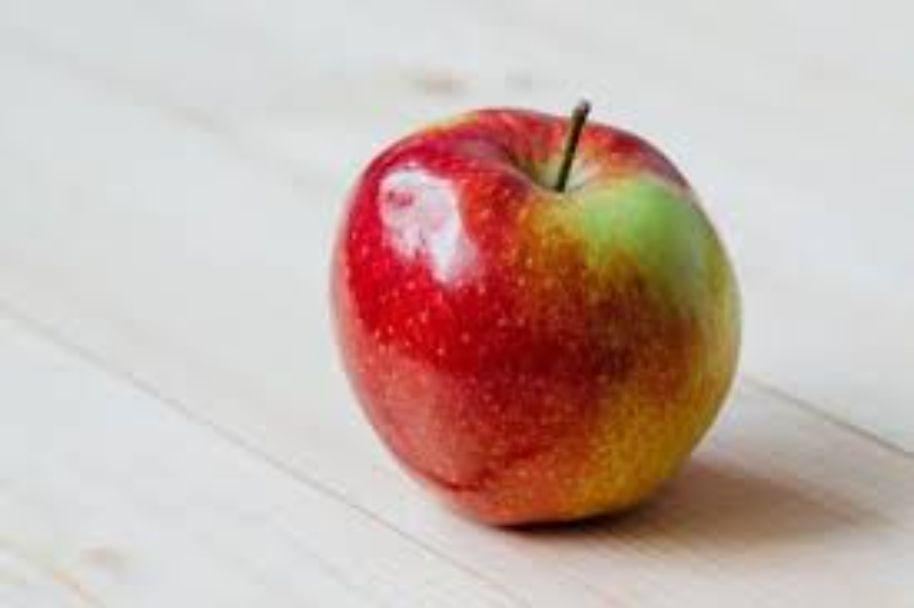HEALTHY: (328, 99, 766, 557)
